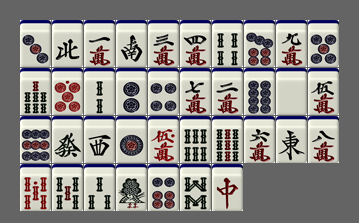0m: (148, 116, 179, 163)
0p: (52, 68, 83, 115)
0s: (20, 164, 51, 211)
1m: (84, 20, 115, 67)
1p: (116, 116, 147, 163)
1s: (116, 164, 147, 211)
1z: (276, 116, 307, 163)
2m: (212, 68, 243, 115)
2p: (116, 68, 147, 115)
2s: (84, 68, 115, 115)
2z: (116, 20, 147, 67)
3m: (148, 20, 179, 67)
3p: (20, 20, 51, 67)
3s: (84, 164, 115, 211)
3z: (84, 116, 115, 163)
4m: (180, 20, 211, 67)
4p: (148, 68, 179, 115)
4s: (212, 20, 243, 67)
4z: (52, 20, 83, 67)
5m: (308, 68, 339, 115)
5p: (308, 20, 339, 67)
5s: (52, 164, 83, 211)
5z: (276, 68, 307, 115)
6m: (244, 116, 275, 163)
6p: (148, 164, 179, 211)
6s: (180, 116, 211, 163)
6z: (52, 116, 83, 163)
7m: (180, 68, 211, 115)
7p: (244, 20, 275, 67)
7s: (20, 68, 51, 115)
7z: (212, 164, 243, 211)
8m: (308, 116, 339, 163)
8p: (244, 68, 275, 115)
8s: (180, 164, 211, 211)
9m: (276, 20, 307, 67)
9p: (20, 116, 51, 163)
9s: (212, 116, 243, 163)
